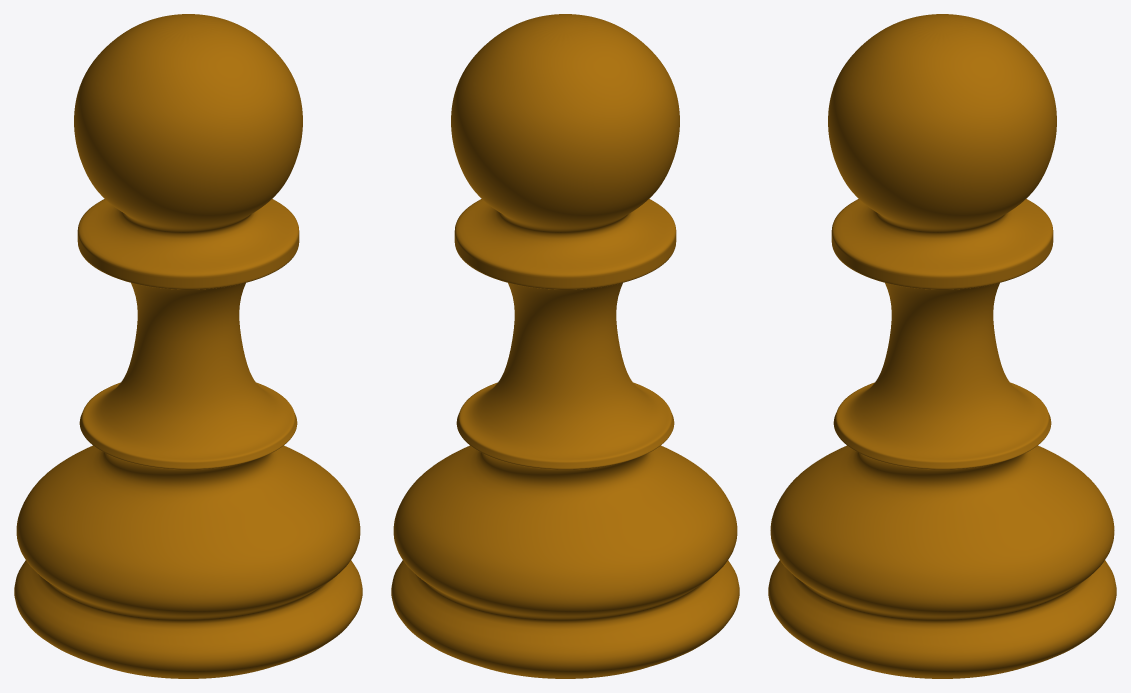
The model's file is pawn.obj.
3 renders of one model, left to right at view 1: azimuth 30°, elevation 25°; view 2: azimuth 150°, elevation 25°; view 3: azimuth 270°, elevation 25°, orthographic.
Visible parts, largest first — view 1: Circle; view 2: Circle; view 3: Circle.
Boxes of the visible parts, x1,y1,x2,y2 form: Circle: (14, 14, 362, 678); Circle: (391, 14, 739, 678); Circle: (768, 14, 1116, 678).
Size of the model in its own units: 1.3 by 2.46 by 1.3.
